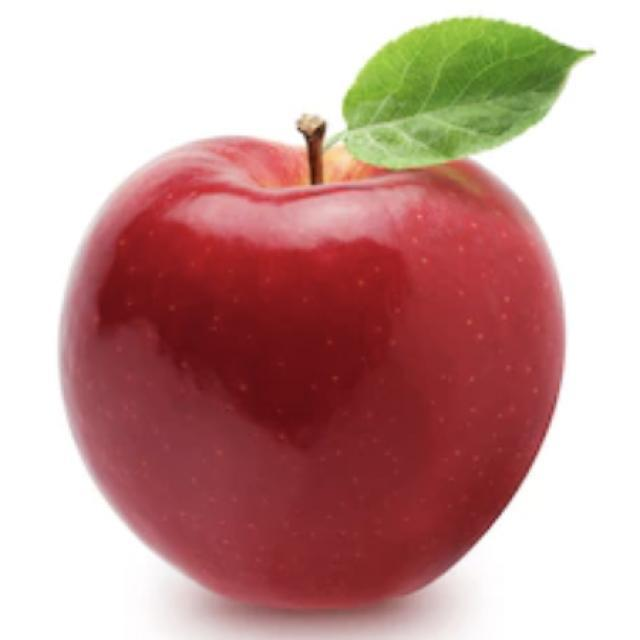Fresh Apple: (105, 135, 555, 632)
